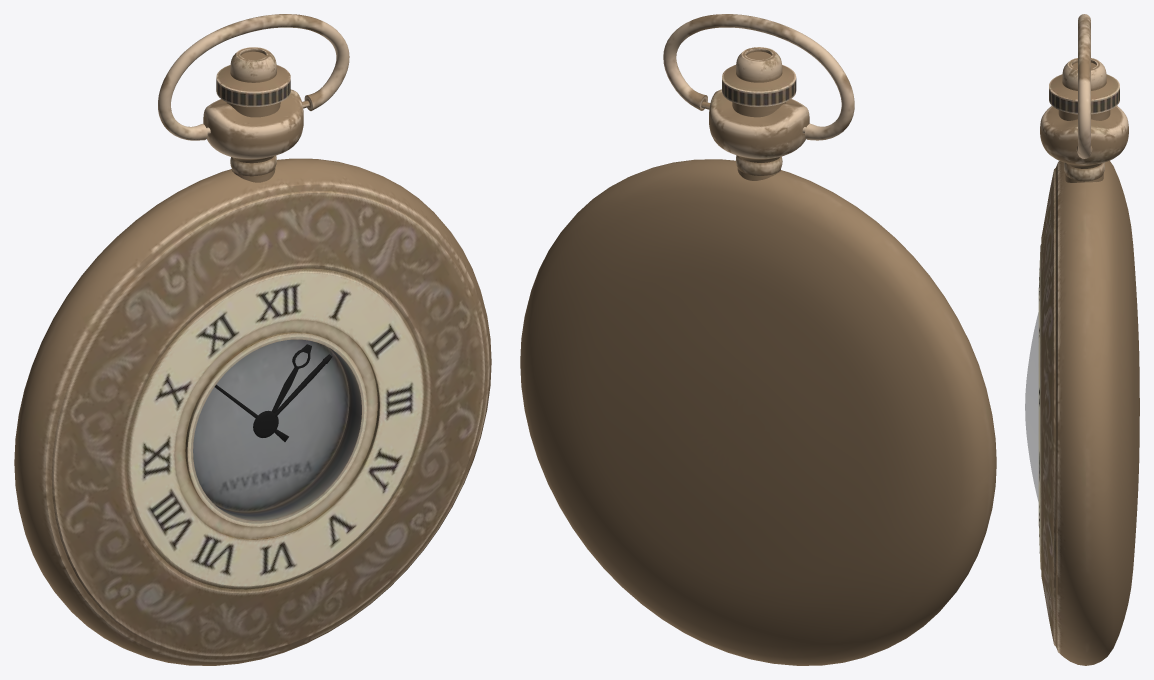
File: vintage_pocket_watch.glb
3 views of the same model, side by side, from view 1: azimuth 30°, elevation 25°; view 2: azimuth 150°, elevation 25°; view 3: azimuth 270°, elevation 25° (orthographic). The views are drawn at different scales.
Visible parts, largest first — view 1: vintage_pocket_watch; view 2: vintage_pocket_watch; view 3: vintage_pocket_watch.
Boxes of the visible parts, x1,y1,x2,y2 form: vintage_pocket_watch: (14,14,491,665); vintage_pocket_watch: (520,14,996,665); vintage_pocket_watch: (1025,14,1139,665).
Size of the model in its own units: 0.0613 by 0.0799 by 0.0136.
3 materials, 1 textured.
